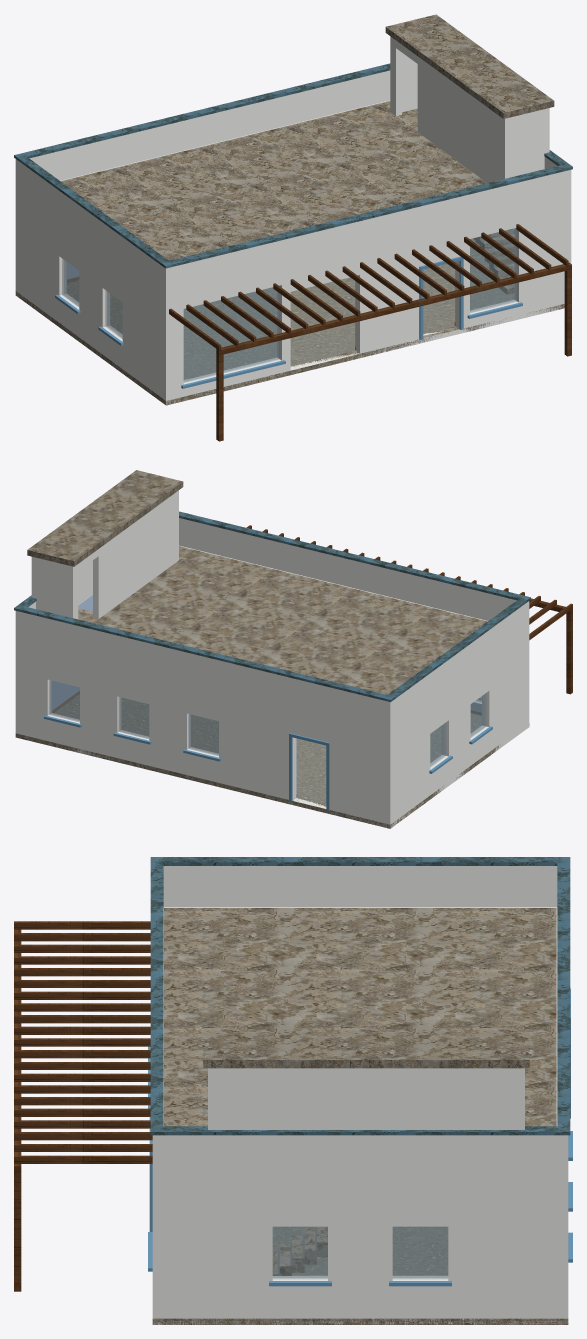
File: bay-beach-club.coast-v1.lod0.glb
3 views of the same model, one above another, from view 1: azimuth 30°, elevation 25°; view 2: azimuth 150°, elevation 25°; view 3: azimuth 270°, elevation 25° (orthographic). The views are drawn at different scales.
Visible parts, largest first — view 1: bay-beach-club; view 2: bay-beach-club; view 3: bay-beach-club.
Boxes of the visible parts, x1,y1,x2,y2 form: bay-beach-club: (14, 14, 572, 441); bay-beach-club: (14, 470, 572, 828); bay-beach-club: (14, 857, 572, 1324).
Bounding box in the file's own units: 14.2 × 6.35 × 12.1.
Materials: 5 (3 with a texture image).
